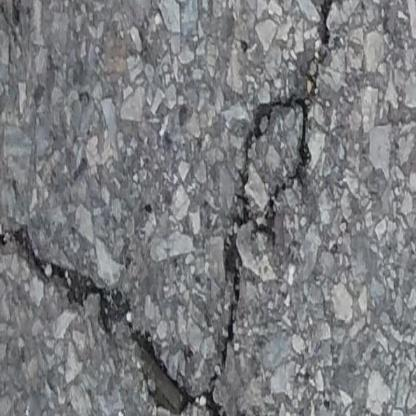Cracks: (0, 0, 358, 416)
